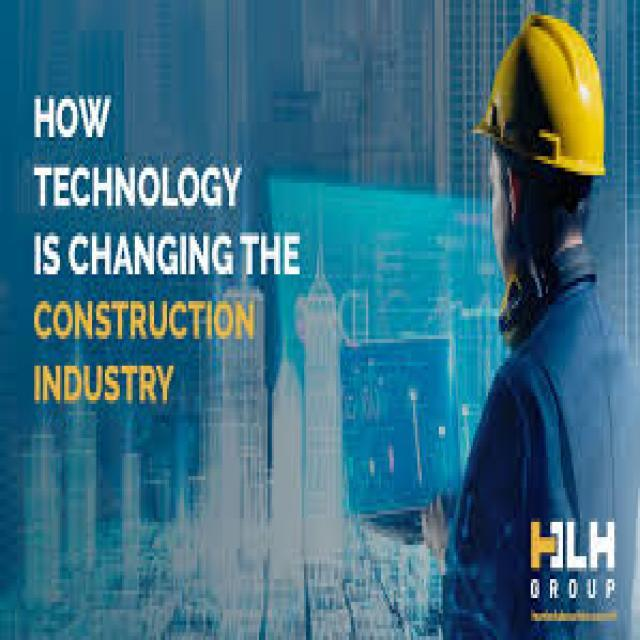safety_helmet: (473, 7, 610, 190)
